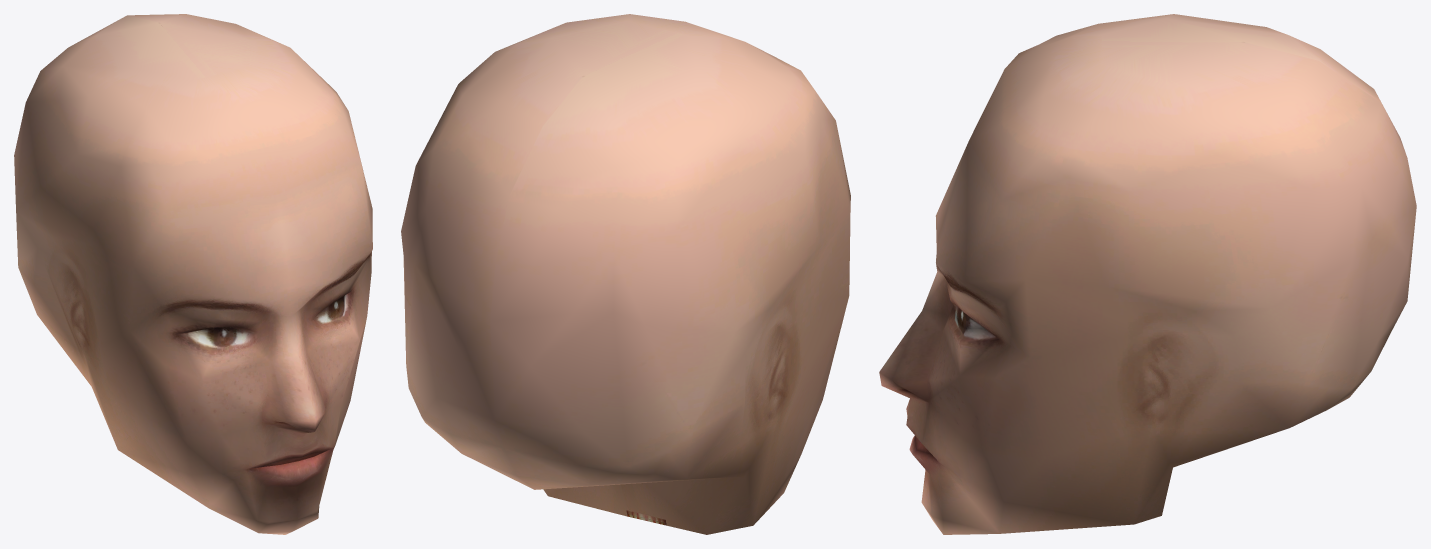
File: b_n_breton_f_head_03.glb
3 renders of one model, left to right at view 1: azimuth 30°, elevation 25°; view 2: azimuth 150°, elevation 25°; view 3: azimuth 270°, elevation 25°, orthographic. The views are drawn at different scales.
Visible parts, largest first — view 1: Tri B_N_Breton_F_Head_03; view 2: Tri B_N_Breton_F_Head_03; view 3: Tri B_N_Breton_F_Head_03.
Boxes of the visible parts, <box> form: Tri B_N_Breton_F_Head_03: <box>14,14,372,534</box>; Tri B_N_Breton_F_Head_03: <box>401,14,850,534</box>; Tri B_N_Breton_F_Head_03: <box>879,14,1416,534</box>.
Size of the model in its own units: 0.1001 by 0.1524 by 0.1519.
1 material, 1 textured.
